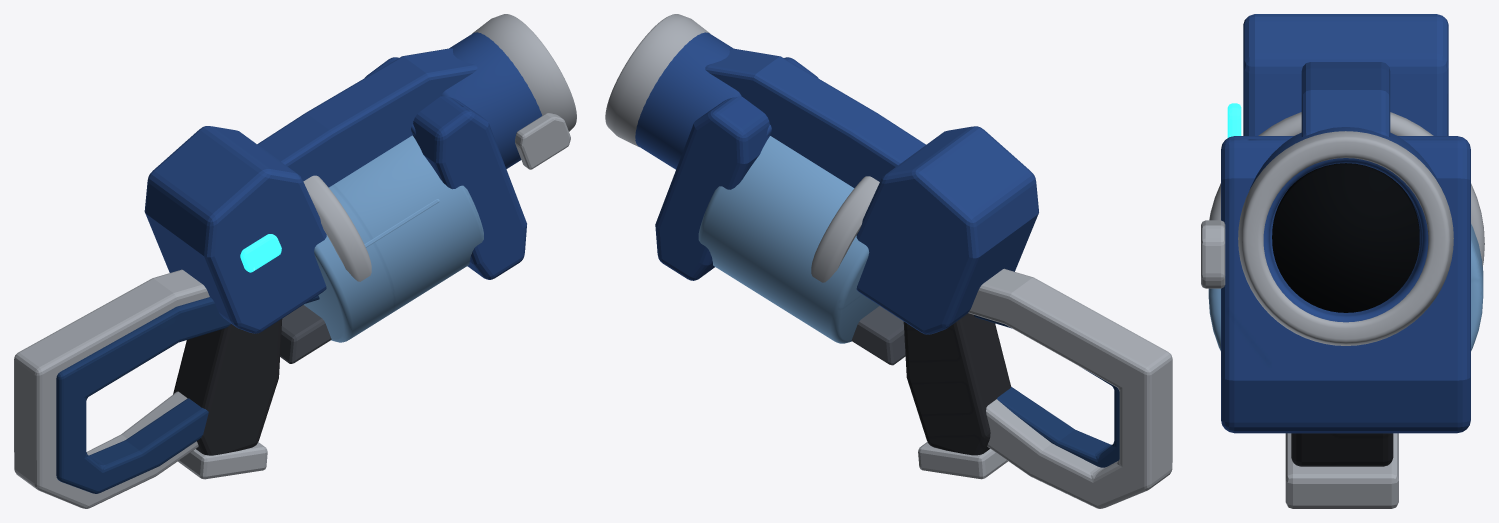
The model's file is asset.fbx.
3 views of the same model, side by side, from view 1: azimuth 30°, elevation 25°; view 2: azimuth 150°, elevation 25°; view 3: azimuth 270°, elevation 25° (orthographic). The views are drawn at different scales.
Parts seen in each view (by area): view 1: item.cannon.rear_housing__LOD0, item.cannon.body__LOD0, item.cannon.rear_frame_outer__LOD0, item.cannon.rear_frame__LOD0, item.cannon.top_spine__LOD0, item.cannon.front_housing__LOD0, item.cannon.grip__LOD0, item.cannon.barrel__LOD0, item.cannon.muzzle_ring__LOD0, item.cannon.structural_band__LOD0, item.cannon.muzzle_lug__LOD0, item.cannon.lower_rail__LOD0 (+2 smaller); view 2: item.cannon.rear_housing__LOD0, item.cannon.rear_frame_outer__LOD0, item.cannon.body__LOD0, item.cannon.top_spine__LOD0, item.cannon.grip__LOD0, item.cannon.front_housing__LOD0, item.cannon.barrel__LOD0, item.cannon.muzzle_ring__LOD0, item.cannon.rear_frame__LOD0, item.cannon.structural_band__LOD0, item.cannon.lower_rail__LOD0, item.cannon.grip_base_cap__LOD0; view 3: item.cannon.front_housing__LOD0, item.cannon.muzzle_bore__LOD0, item.cannon.rear_housing__LOD0, item.cannon.muzzle_ring__LOD0, item.cannon.top_spine__LOD0, item.cannon.grip_base_cap__LOD0, item.cannon.barrel__LOD0, item.cannon.grip__LOD0, item.cannon.structural_band__LOD0, item.cannon.body__LOD0, item.cannon.muzzle_lug__LOD0, item.cannon.indicator_bezel__LOD0.
Part boxes in pixels (x1,y1,x2,y2): item.cannon.rear_housing__LOD0: (144,126,326,333); item.cannon.body__LOD0: (304,135,483,342); item.cannon.rear_frame_outer__LOD0: (14,269,209,508); item.cannon.rear_frame__LOD0: (56,295,319,493); item.cannon.top_spine__LOD0: (257,48,477,187); item.cannon.front_housing__LOD0: (365,57,526,279); item.cannon.grip__LOD0: (173,319,282,455); item.cannon.barrel__LOD0: (411,32,542,168); item.cannon.muzzle_ring__LOD0: (472,14,576,131); item.cannon.structural_band__LOD0: (303,175,371,281); item.cannon.muzzle_lug__LOD0: (515,113,570,169); item.cannon.lower_rail__LOD0: (280,305,331,363); item.cannon.rear_housing__LOD0: (856,126,1038,334); item.cannon.rear_frame_outer__LOD0: (968,268,1172,508); item.cannon.body__LOD0: (698,136,879,343); item.cannon.top_spine__LOD0: (705,48,925,187); item.cannon.grip__LOD0: (903,313,1011,455); item.cannon.front_housing__LOD0: (655,57,818,280); item.cannon.barrel__LOD0: (635,32,771,169); item.cannon.muzzle_ring__LOD0: (605,14,709,146); item.cannon.rear_frame__LOD0: (974,315,1119,467); item.cannon.structural_band__LOD0: (811,176,879,282); item.cannon.lower_rail__LOD0: (851,306,905,365); item.cannon.grip_base_cap__LOD0: (918,442,1007,479); item.cannon.front_housing__LOD0: (1221,136,1470,433); item.cannon.muzzle_bore__LOD0: (1272,163,1419,312); item.cannon.rear_housing__LOD0: (1243,14,1448,135); item.cannon.muzzle_ring__LOD0: (1238,131,1453,345); item.cannon.top_spine__LOD0: (1301,62,1390,136); item.cannon.grip_base_cap__LOD0: (1285,433,1398,508); item.cannon.barrel__LOD0: (1249,127,1442,322); item.cannon.grip__LOD0: (1291,433,1393,466); item.cannon.structural_band__LOD0: (1209,112,1484,266); item.cannon.body__LOD0: (1208,224,1483,350); item.cannon.muzzle_lug__LOD0: (1201,220,1225,288); item.cannon.indicator_bezel__LOD0: (1227,103,1241,137).
Size of what is drawn, in the model's own units: 1.3 by 0.8688 by 0.3847.
